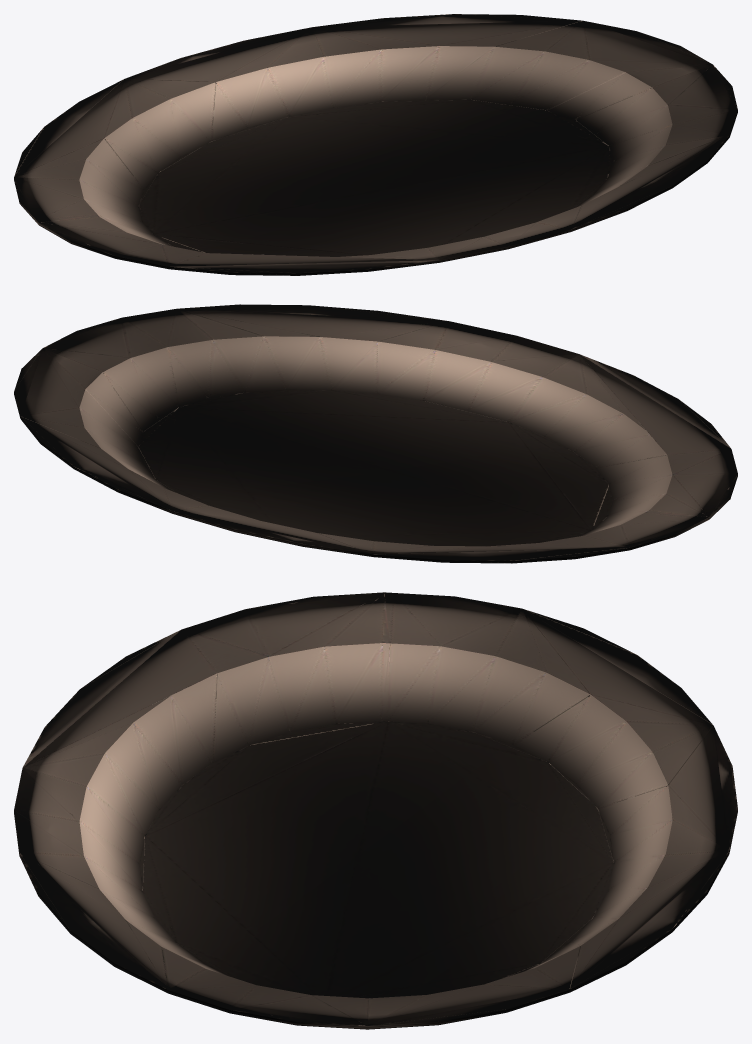
Rendered from stenless_plate5.glb.
3 renders of one model, top to bottom at view 1: azimuth 30°, elevation 25°; view 2: azimuth 150°, elevation 25°; view 3: azimuth 270°, elevation 25°, orthographic. The views are drawn at different scales.
Visible parts, largest first — view 1: suテンレス; view 2: suテンレス; view 3: suテンレス.
Part boxes in pixels (<box>): suテンレス: <box>14,14,737,275</box>; suテンレス: <box>14,304,737,563</box>; suテンレス: <box>14,592,737,1029</box>.
Bounding box in the file's own units: 28.01 × 1.8 × 19.77.
1 material, 1 textured.
